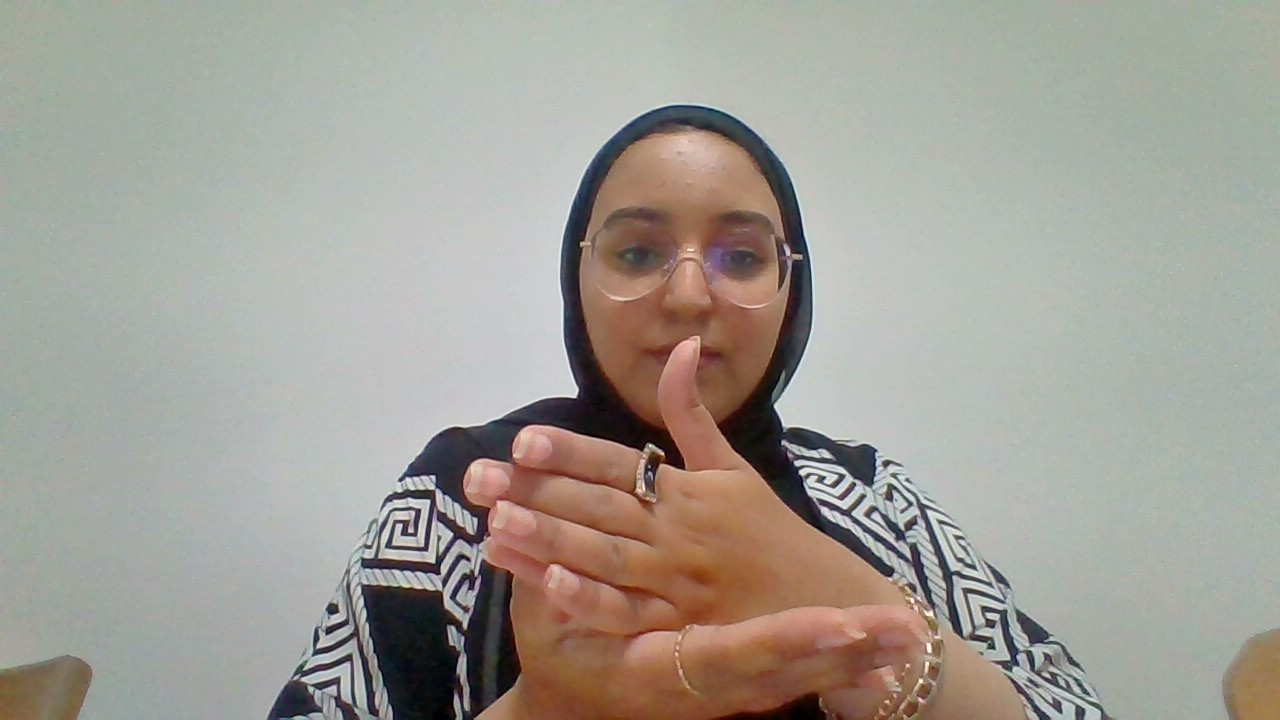stop: (458, 345, 941, 709)
